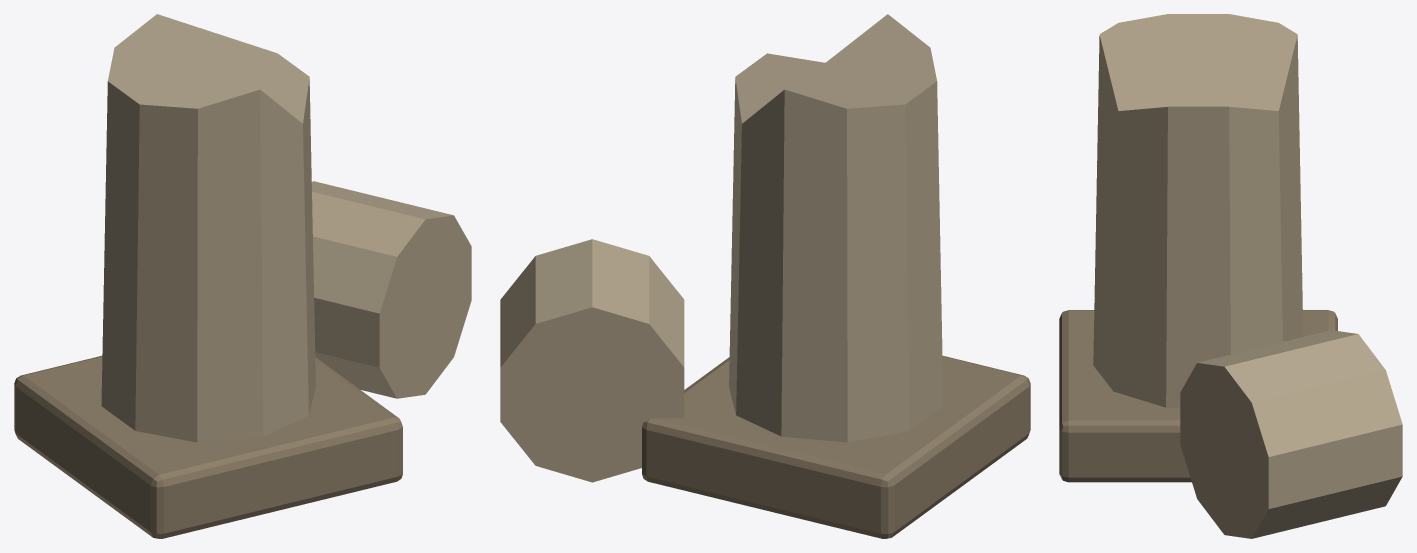
Rendered from broken_pillar.glb.
3 renders of one model, left to right at view 1: azimuth 30°, elevation 25°; view 2: azimuth 150°, elevation 25°; view 3: azimuth 270°, elevation 25°, orthographic. The views are drawn at different scales.
Visible parts, largest first — view 1: broken_pillar; view 2: broken_pillar; view 3: broken_pillar.
Part boxes in pixels (left/top/right/bottom): broken_pillar: left=14, top=14, right=471, bottom=538; broken_pillar: left=500, top=14, right=1030, bottom=538; broken_pillar: left=1059, top=14, right=1402, bottom=538.
Size of the model in its own units: 1.52 by 1.4 by 1.11.
